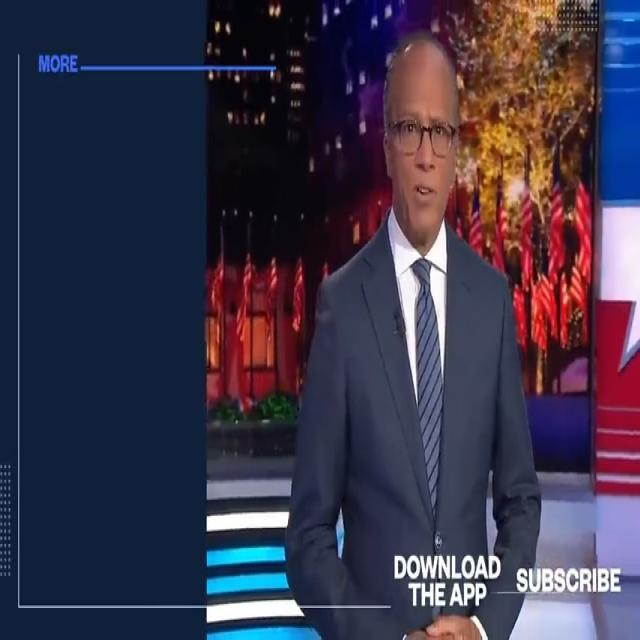non-fight: (277, 21, 556, 640)
